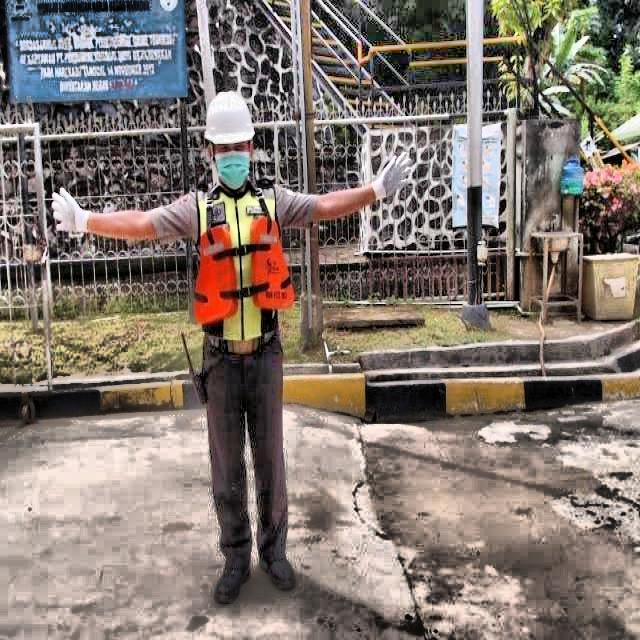safety_helmet: (202, 85, 258, 151)
safety_jacket: (182, 183, 302, 341)
